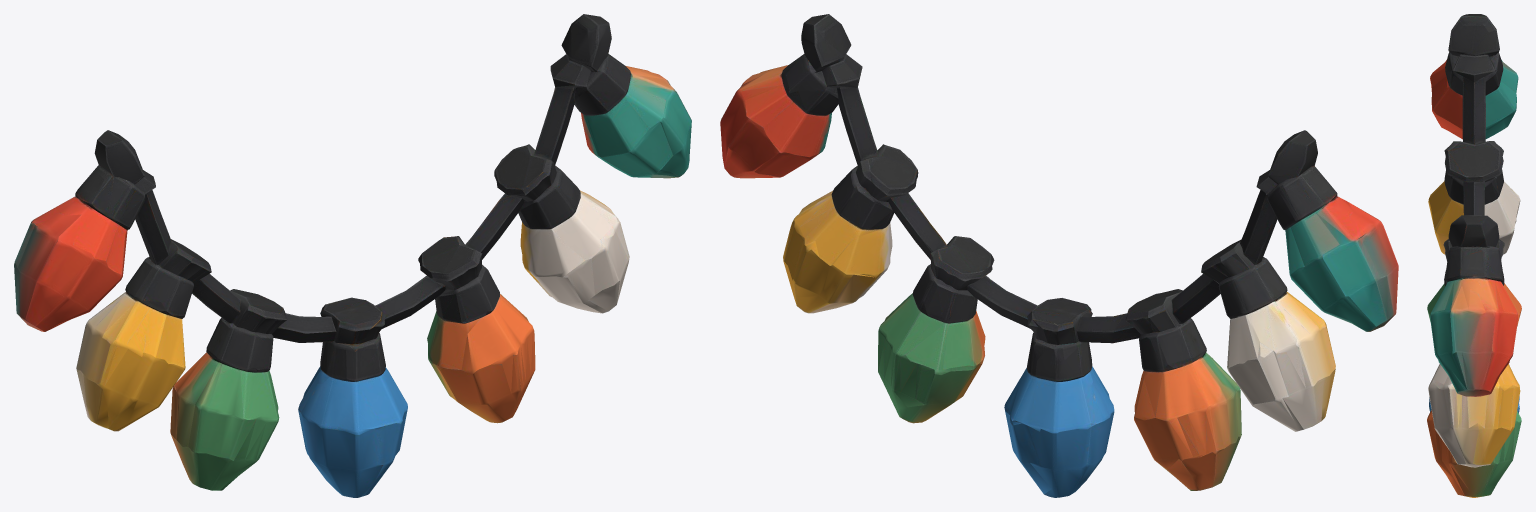
Rendered from stringLights.glb.
3 renders of one model, left to right at view 1: azimuth 30°, elevation 25°; view 2: azimuth 150°, elevation 25°; view 3: azimuth 270°, elevation 25°, orthographic. The views are drawn at different scales.
Visible parts, largest first — view 1: Mesh_0; view 2: Mesh_0; view 3: Mesh_0.
Boxes of the visible parts, <box> form: Mesh_0: <box>14,14,691,497</box>; Mesh_0: <box>720,14,1398,497</box>; Mesh_0: <box>1427,14,1521,497</box>.
Size of the model in its own units: 2 by 1.19 by 0.2878.
1 material, 1 textured.
